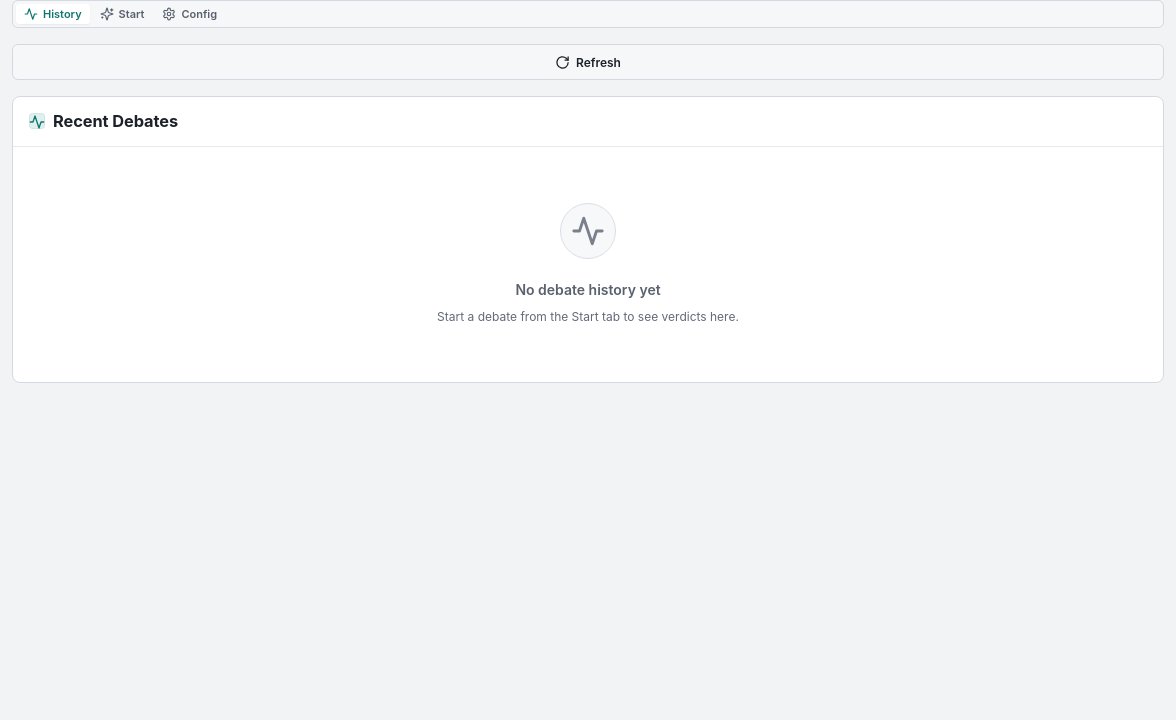
it: Debate.vue › switches to config tab and shows the config form
Note: config is index 2
Click the radio button with class "segmented__item" showing "Config" at (190, 14), box [154, 4, 225, 24]
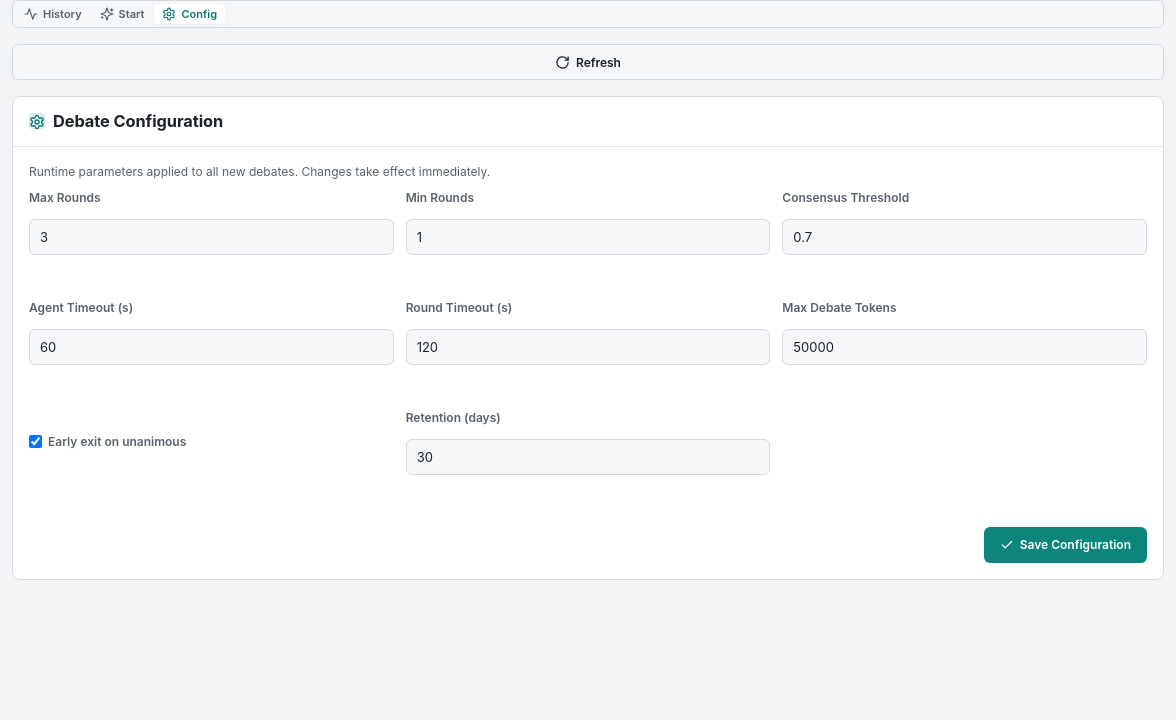
Expected: the text "Debate Configuration" is shown, [53, 109, 223, 134]
